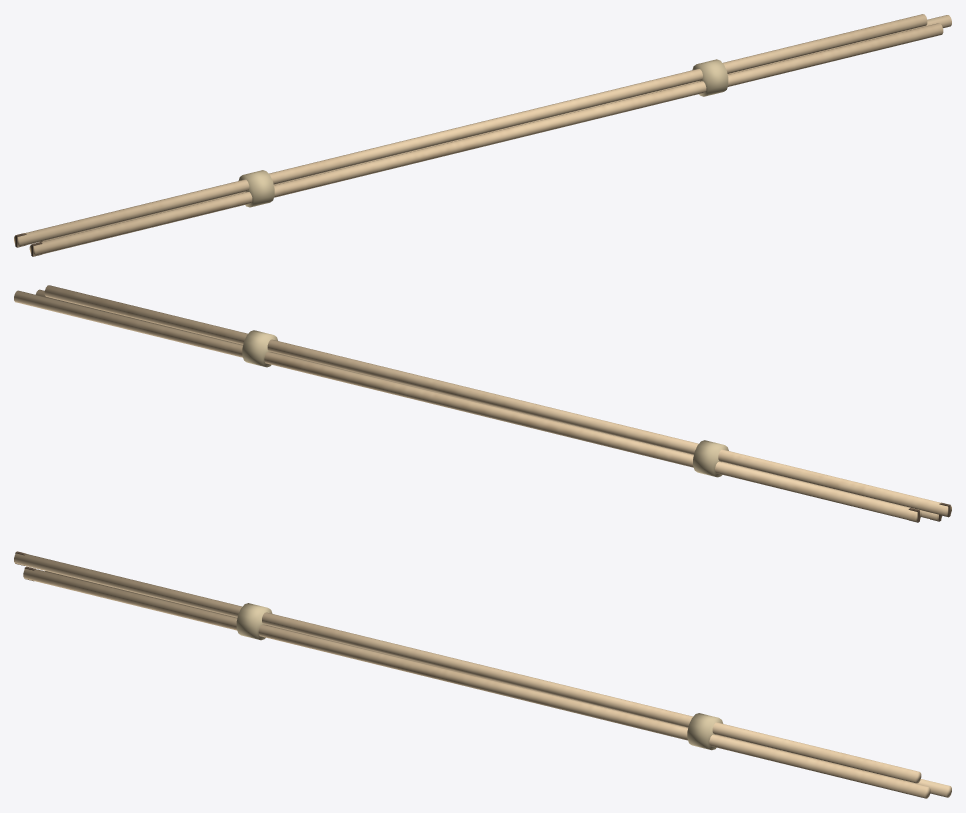
File: FL_ArrowShaft.fbx
3 renders of one model, top to bottom at view 1: azimuth 30°, elevation 25°; view 2: azimuth 150°, elevation 25°; view 3: azimuth 330°, elevation 25°, orthographic.
Parts seen in each view (by area): view 1: FL_ArrowShaft; view 2: FL_ArrowShaft; view 3: FL_ArrowShaft.
Boxes of the visible parts, bbox=[...] form: FL_ArrowShaft: bbox=[14, 14, 951, 256]; FL_ArrowShaft: bbox=[14, 285, 951, 522]; FL_ArrowShaft: bbox=[14, 551, 951, 798].
Bounding box in the file's own units: 0.0619 × 0.00192 × 0.00187.
